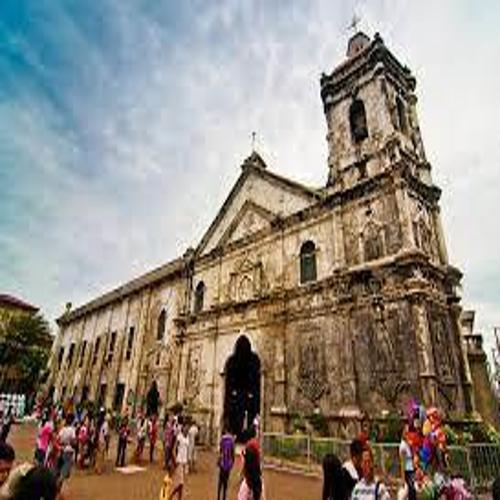Sto. Nino Basilica Church: (172, 12, 488, 483)
